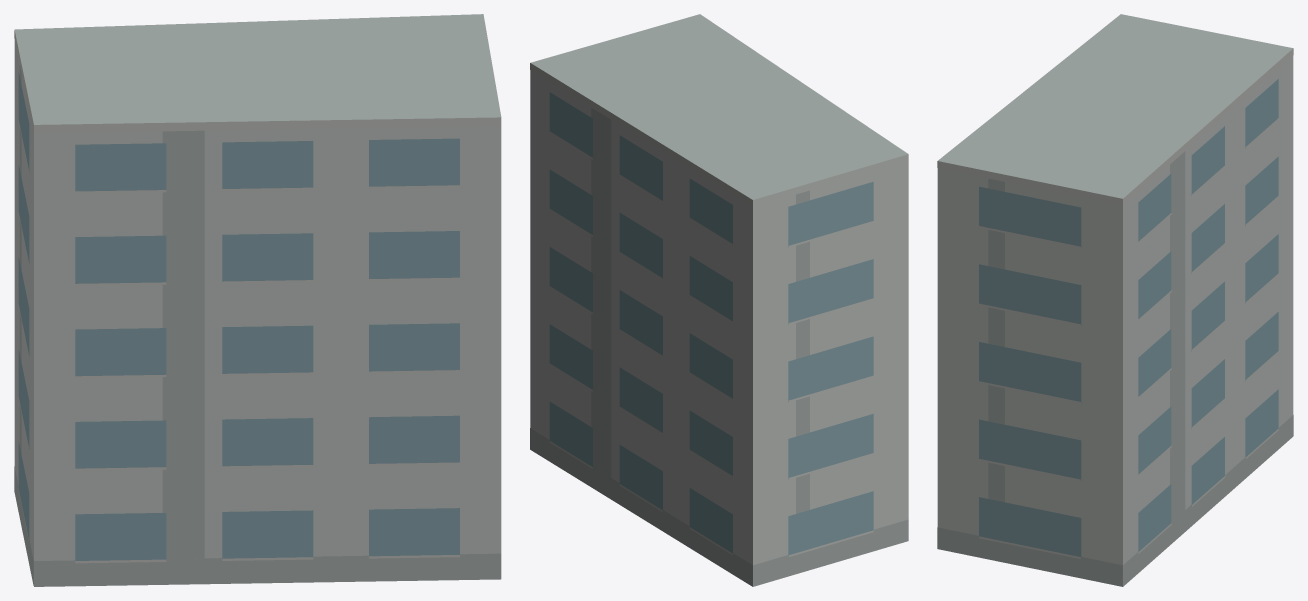
Rendered from survey-upis-33008160.glb.
The picture shows the model from 3 angles, left to right: view 1: azimuth 30°, elevation 25°; view 2: azimuth 150°, elevation 25°; view 3: azimuth 270°, elevation 25°; orthographic projection. The views are drawn at different scales.
Parts seen in each view (by area): view 1: survey-upis-33008160.tmp; view 2: survey-upis-33008160.tmp; view 3: survey-upis-33008160.tmp.
Part boxes in pixels (x1=…): survey-upis-33008160.tmp: x1=14, y1=14, x2=501, y2=586; survey-upis-33008160.tmp: x1=530, y1=14, x2=908, y2=586; survey-upis-33008160.tmp: x1=937, y1=14, x2=1293, y2=586.
Bounding box in the file's own units: 13.49 × 13.2 × 10.98.
